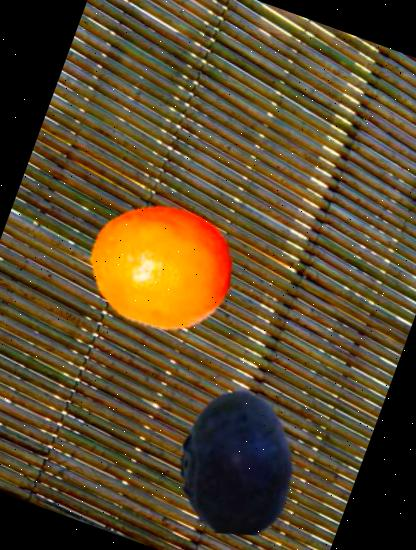Blueberry: (143, 368, 329, 550)
Lemon: (66, 175, 251, 360)
